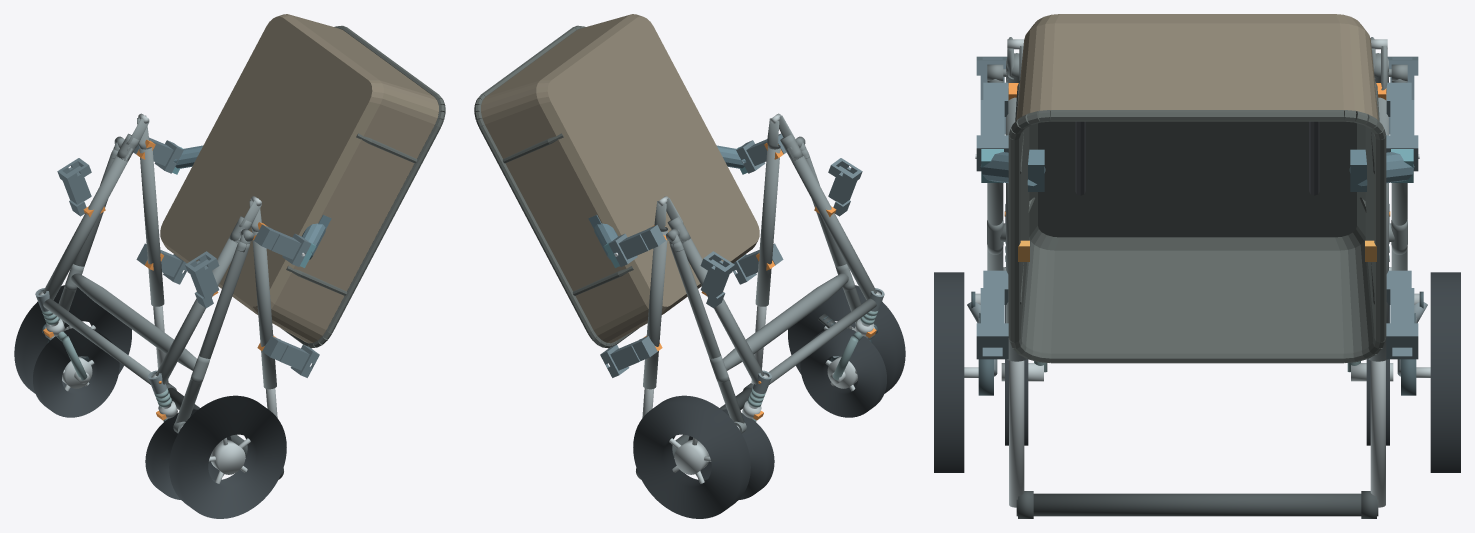
The model's file is S14_w650_state3_wheel_M.glb.
3 views of the same model, side by side, from view 1: azimuth 30°, elevation 25°; view 2: azimuth 150°, elevation 25°; view 3: azimuth 270°, elevation 25° (orthographic). The views are drawn at different scales.
Visible parts, largest first — view 1: S14_Cabin, RL_tire.008, FR_tire.008, RR_tire.008, V46_rearbar.009, main_lower_1.009, main_upper_1.009, V46_rear_leg_-1.009, FL_tire.008, main_upper_-1.009, main_lower_-1.009, front_fixed_round_tube.008 (+9 smaller); view 2: S14_Cabin, RR_tire.008, FL_tire.008, RL_tire.008, V46_rearbar.009, main_lower_-1.009, main_upper_-1.009, V46_rear_leg_1.009, FR_tire.008, main_upper_1.009, main_lower_1.009, front_fixed_round_tube.008 (+9 smaller); view 3: S14_Cabin, round_handle.008, RL_tire.008, RR_tire.008, S14_Cabin_Mount_M, Universal_Cabin_Receiver_H_1, Universal_Cabin_Receiver_H_-1, handle_slider_1.008, handle_slider_-1.008, Universal_Cabin_Receiver_M_-1, Universal_Cabin_Receiver_M_1, V46_rear_leg_1.009 (+7 smaller).
Part boxes in pixels (left/top/right/bottom): S14_Cabin: left=160, top=14, right=445, bottom=348; RL_tire.008: left=169, top=395, right=286, bottom=518; FR_tire.008: left=33, top=328, right=119, bottom=417; RR_tire.008: left=14, top=285, right=131, bottom=393; V46_rearbar.009: left=71, top=273, right=196, bottom=370; main_lower_1.009: left=43, top=148, right=132, bottom=300; main_upper_1.009: left=139, top=147, right=164, bottom=306; V46_rear_leg_-1.009: left=175, top=241, right=249, bottom=423; FL_tire.008: left=145, top=409, right=231, bottom=499; main_upper_-1.009: left=251, top=229, right=276, bottom=389; main_lower_-1.009: left=155, top=236, right=240, bottom=384; front_fixed_round_tube.008: left=43, top=298, right=150, bottom=384; S14_Cabin: left=474, top=14, right=759, bottom=348; RR_tire.008: left=633, top=395, right=750, bottom=518; FL_tire.008: left=800, top=328, right=886, bottom=417; RL_tire.008: left=788, top=285, right=905, bottom=393; V46_rearbar.009: left=723, top=273, right=848, bottom=370; main_lower_-1.009: left=787, top=148, right=876, bottom=300; main_upper_-1.009: left=755, top=147, right=780, bottom=306; V46_rear_leg_1.009: left=670, top=241, right=744, bottom=423; FR_tire.008: left=688, top=409, right=774, bottom=499; main_upper_1.009: left=643, top=229, right=668, bottom=389; main_lower_1.009: left=679, top=236, right=764, bottom=384; front_fixed_round_tube.008: left=769, top=298, right=876, bottom=384; S14_Cabin: left=1008, top=14, right=1386, bottom=363; round_handle.008: left=1016, top=493, right=1378, bottom=516; RL_tire.008: left=934, top=272, right=964, bottom=472; RR_tire.008: left=1430, top=272, right=1460, bottom=472; S14_Cabin_Mount_M: left=975, top=149, right=1419, bottom=191; Universal_Cabin_Receiver_H_1: left=1386, top=270, right=1418, bottom=359; Universal_Cabin_Receiver_H_-1: left=976, top=270, right=1008, bottom=359; handle_slider_1.008: left=1370, top=360, right=1385, bottom=507; handle_slider_-1.008: left=1009, top=360, right=1024, bottom=507; Universal_Cabin_Receiver_M_-1: left=976, top=82, right=1008, bottom=171; Universal_Cabin_Receiver_M_1: left=1386, top=82, right=1418, bottom=171; V46_rear_leg_1.009: left=1391, top=183, right=1407, bottom=270.
Size of the model in its own units: 0.8359 by 0.9675 by 0.7871.
